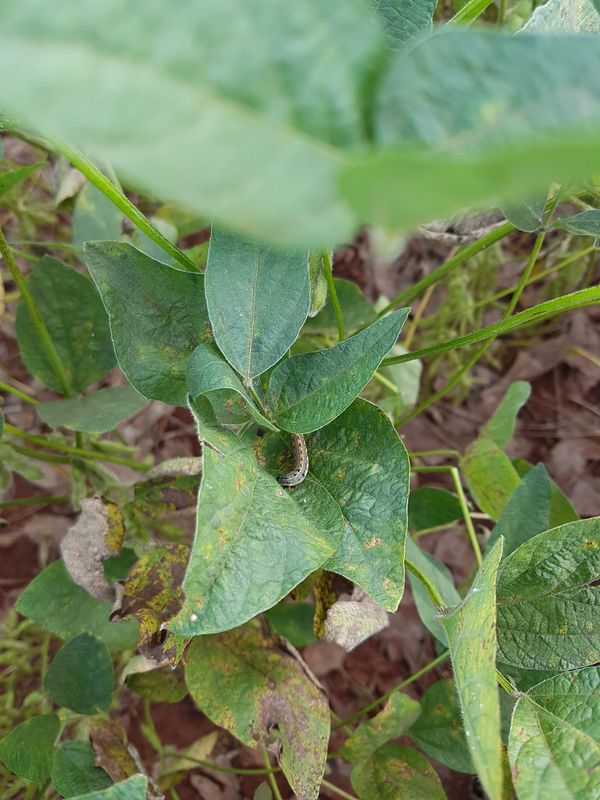Spodoptera_albula: (267, 428, 322, 493)
